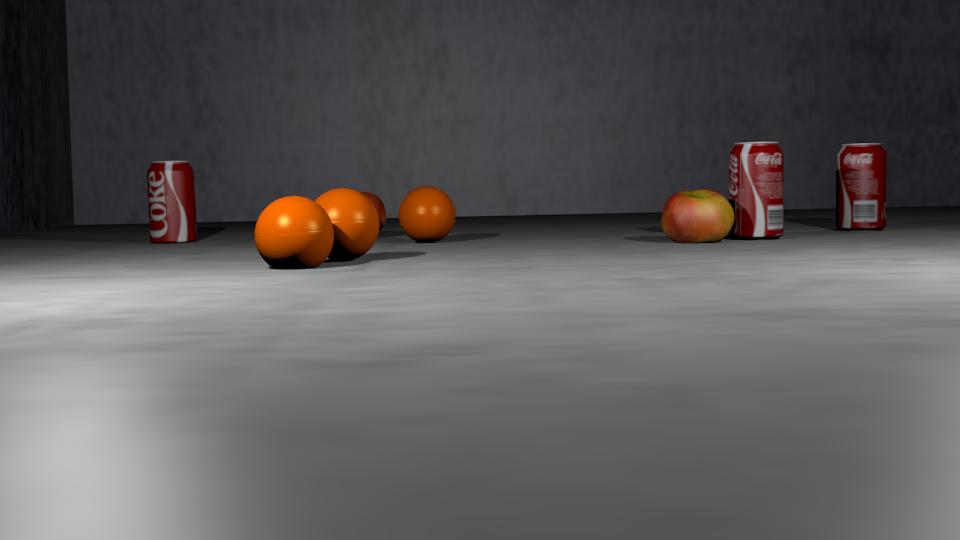apple: (662, 190, 735, 241), (327, 192, 386, 231)
cola_can: (730, 142, 784, 237), (839, 144, 886, 232), (150, 161, 195, 246)
orange: (255, 196, 334, 261), (307, 189, 380, 249), (400, 187, 456, 236)
